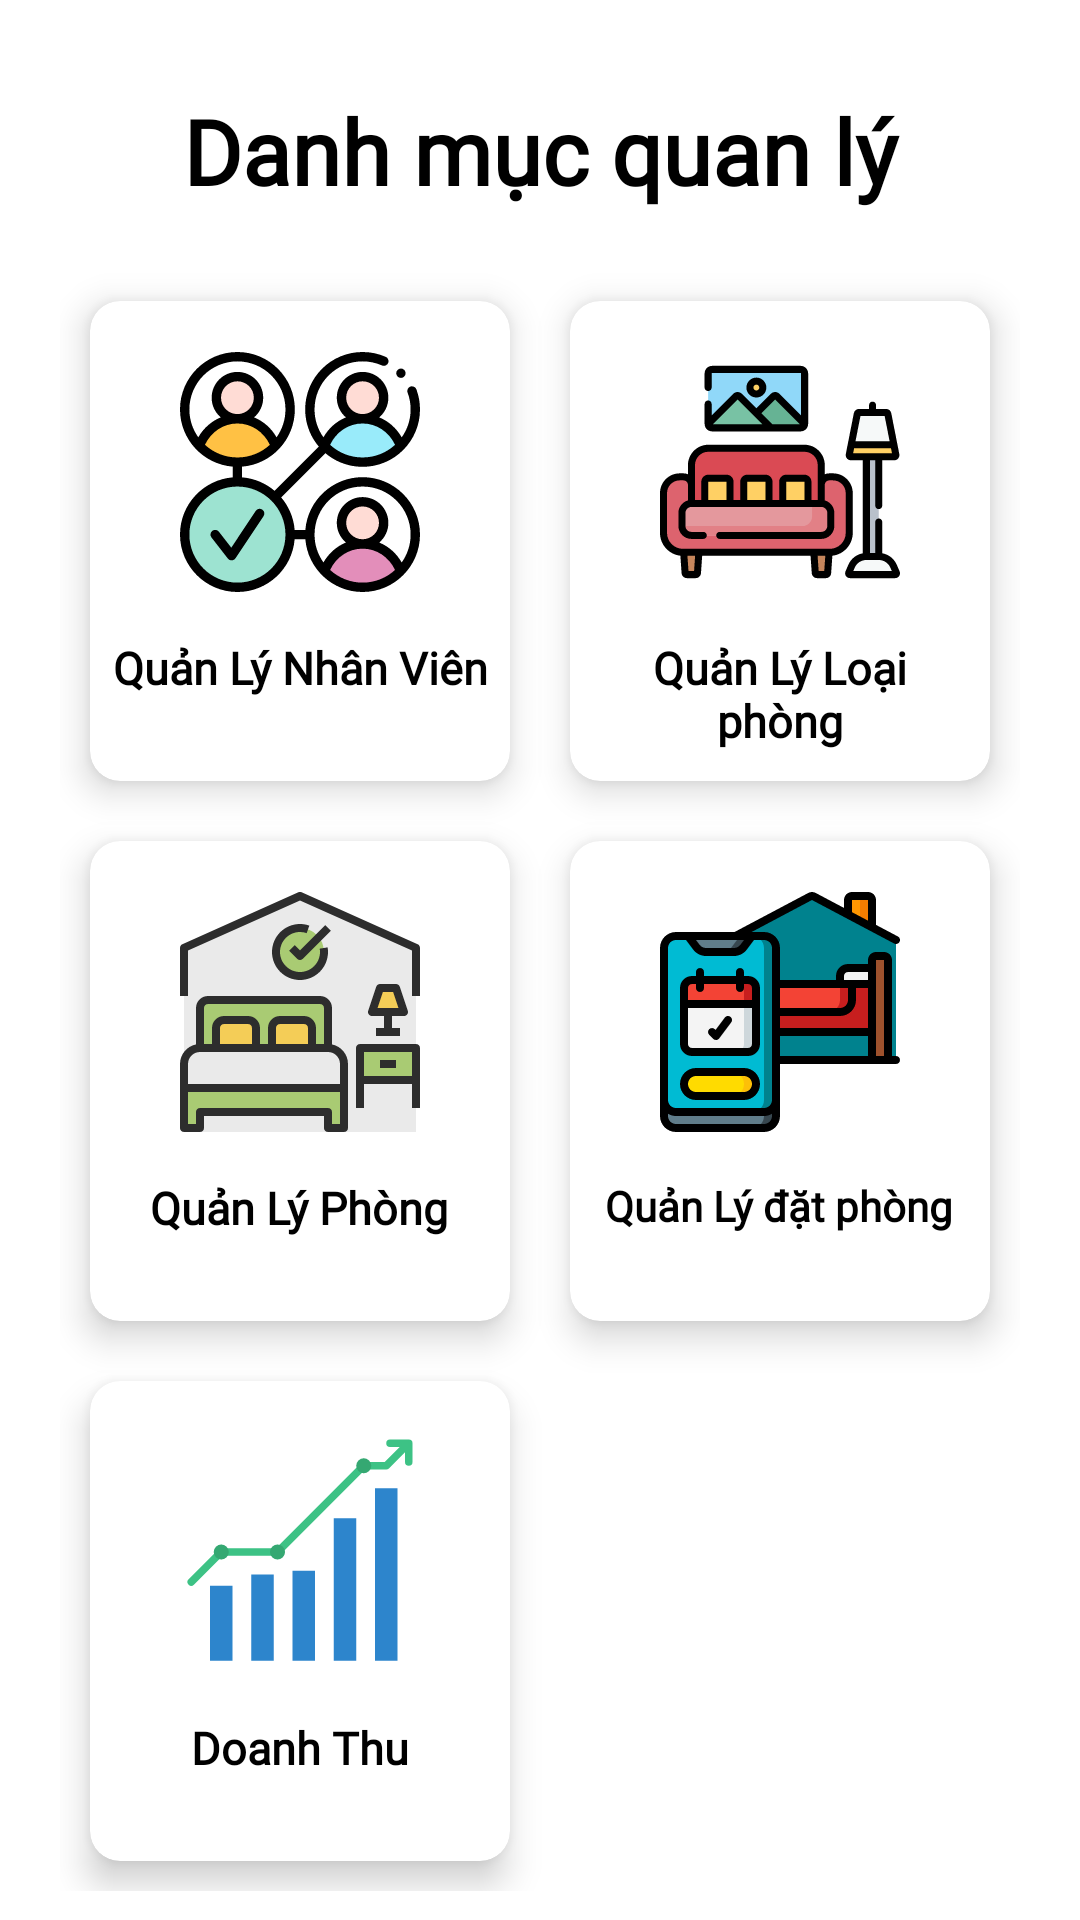

Where icons sit on this 1080×1920 app screen, as (x1, y1, x2, y2):
grow up: (187, 1439, 413, 1661)
hotel: (180, 892, 420, 1132)
living room: (660, 365, 900, 579)
smartphone: (660, 892, 900, 1132)
team: (180, 352, 420, 592)
